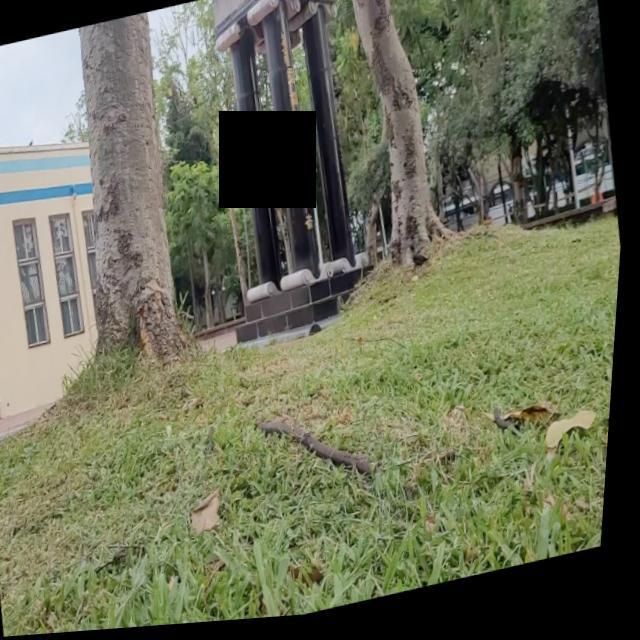Tree: (48, 9, 223, 401), (330, 1, 484, 289)
